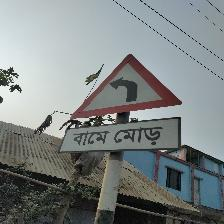Left-Turn: (61, 54, 184, 155)
